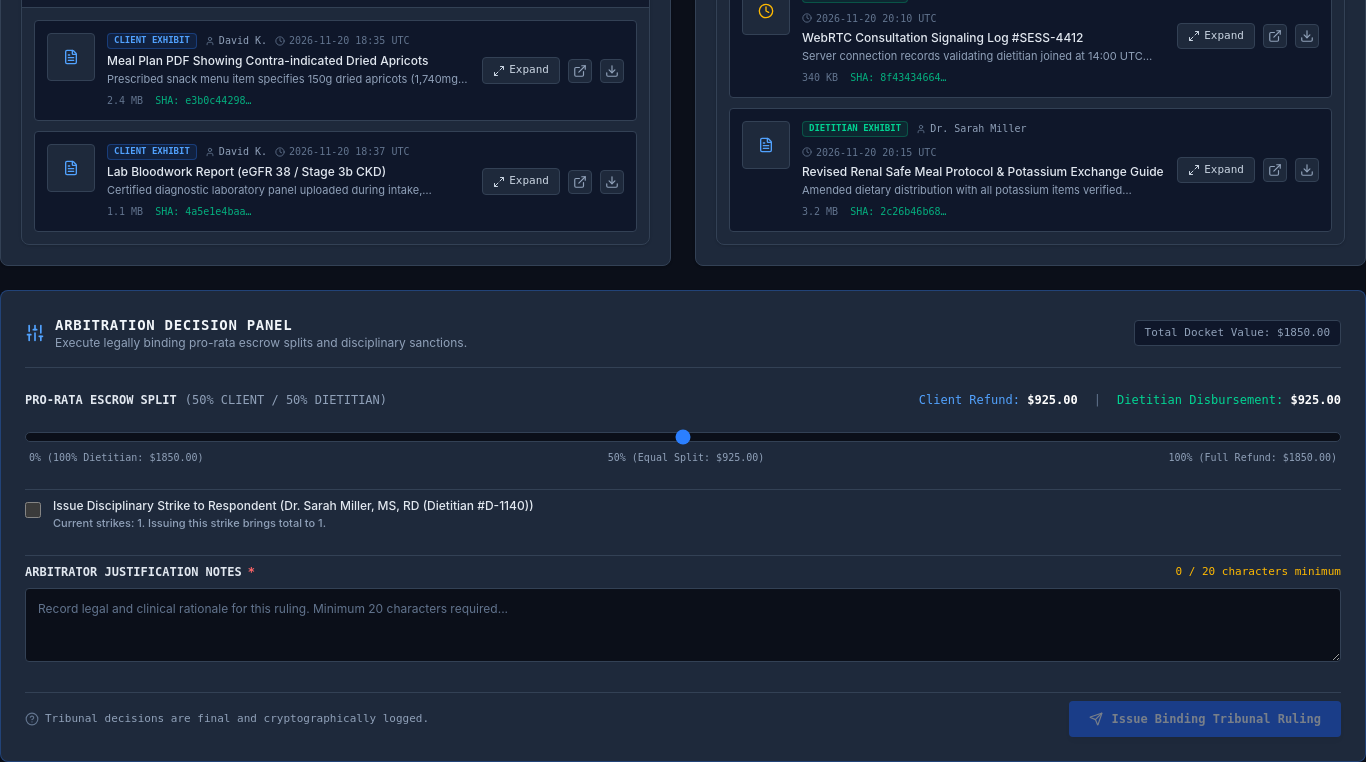
Test: Disciplinary Strike Action › displays automatic tier demotion warning banner when issuing Strike 2 or 3
(page scrolled)
Note: Check the strike checkbox
What coordinates should you click on to do the following:
click the checkbox with test id "strike-checkbox"
I would click on:
 (33, 510)
Its box is [25,502,41,518].
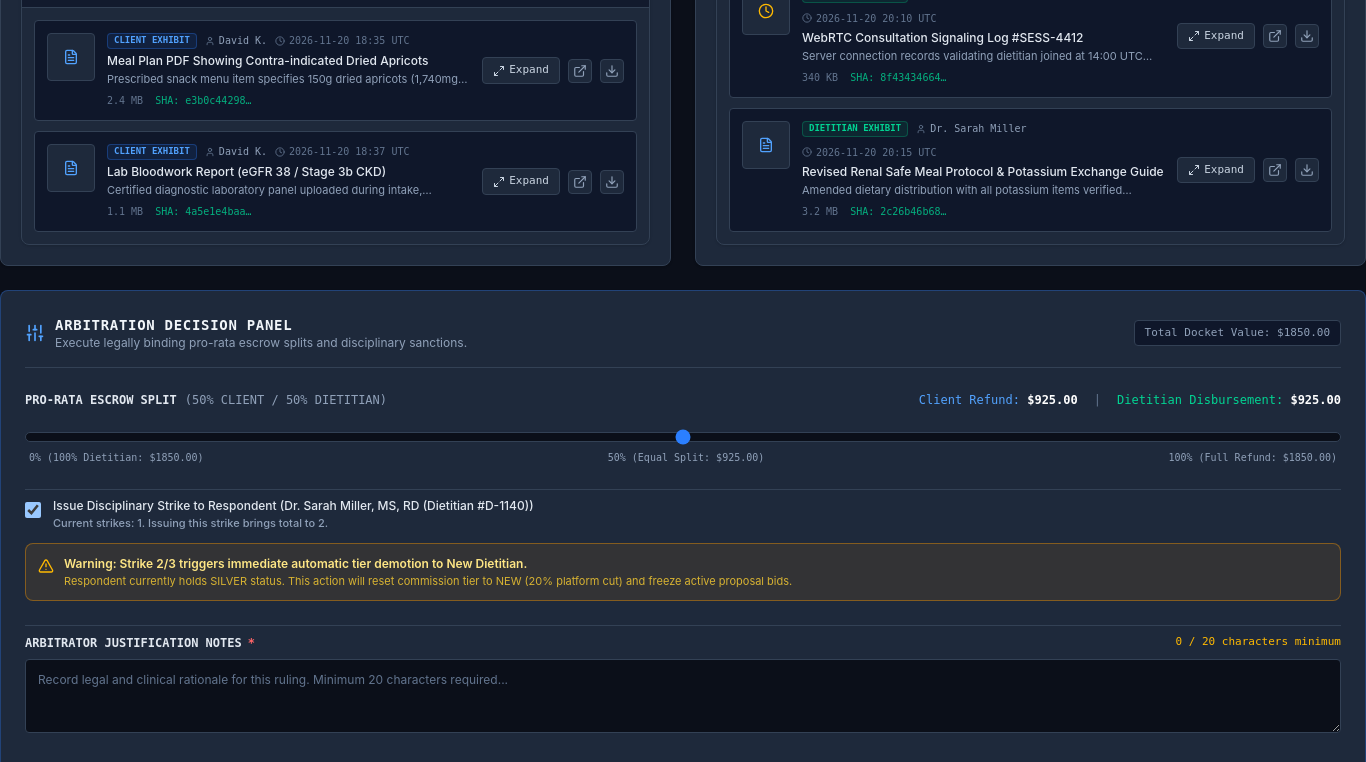
Check: the element with test id "strike-warning-banner" is shown, box [25,543,1341,601]
Check: the element with test id "strike-warning-banner" reads "Warning: Strike 2/3 triggers immediate automatic tier demotion to New Dietitian.", box [64,556,527,571]
Note: Uncheck strike checkbox
What coordinates should you click on to do the following:
click the checkbox with test id "strike-checkbox"
I would click on:
 (33, 510)
Its box is [25,502,41,518].
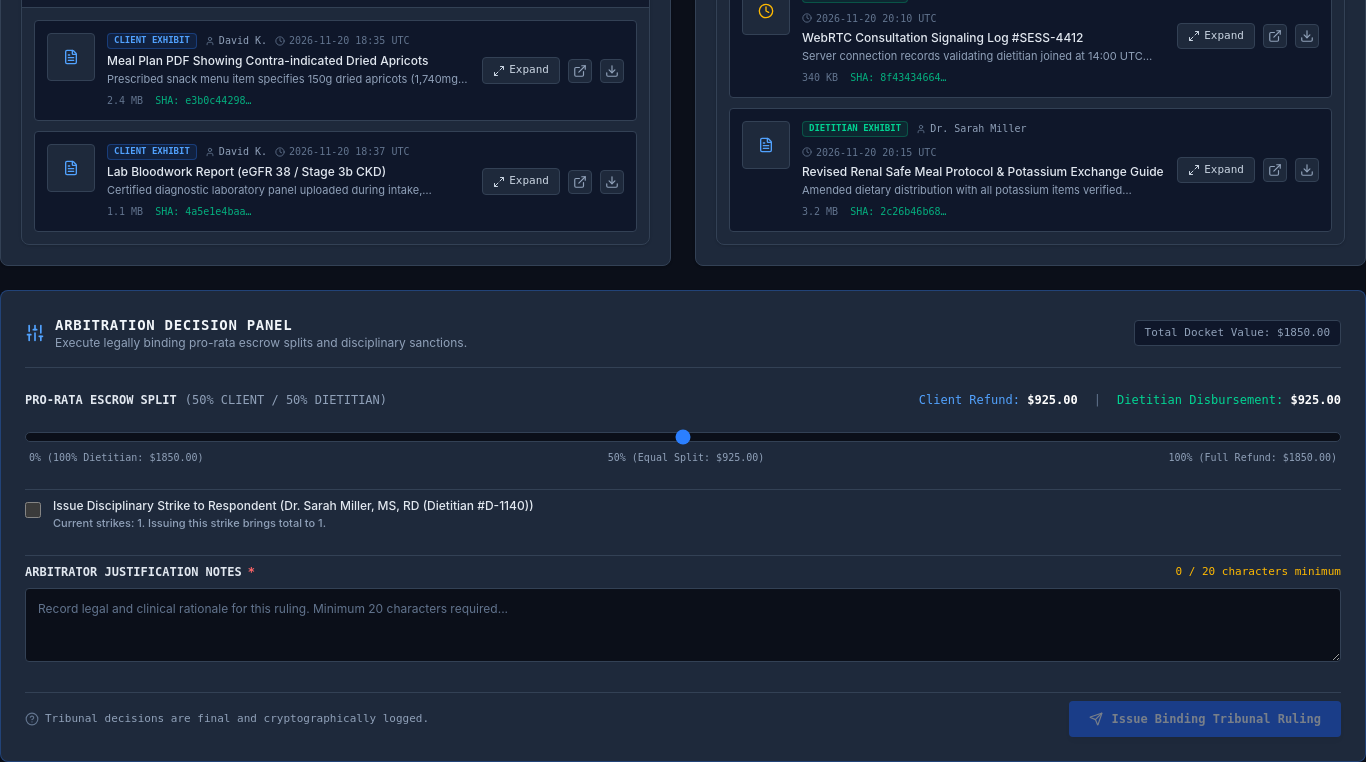
Check: the element with test id "strike-warning-banner" is gone
